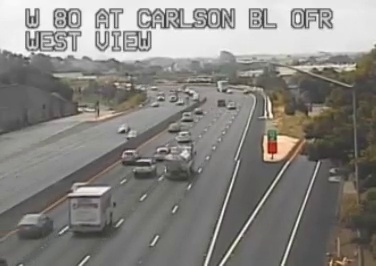car: (17, 214, 51, 236), (133, 158, 155, 175), (122, 150, 138, 163), (177, 131, 190, 142)
small-truck: (69, 185, 112, 232)
tank-truck: (165, 146, 195, 179)
